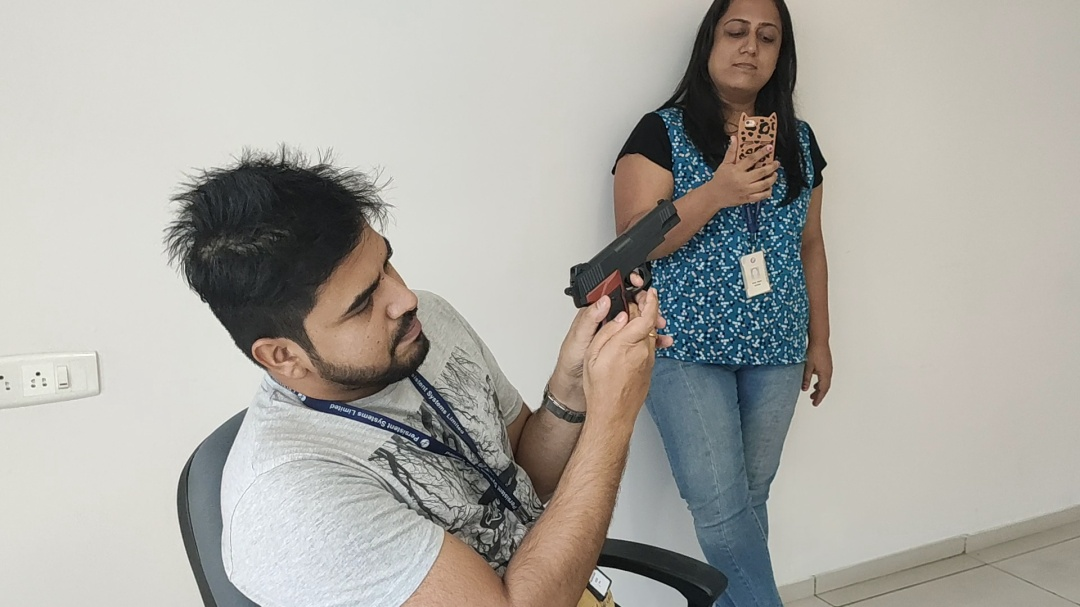gun: (186, 81, 920, 498)
